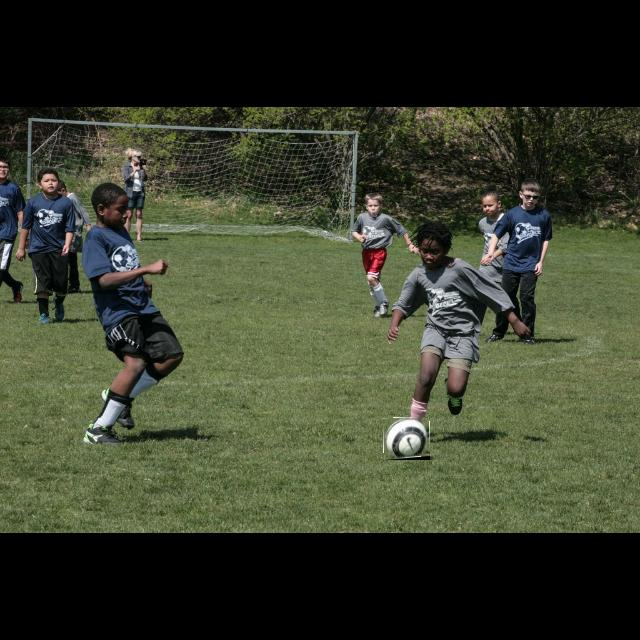Football: (384, 418, 430, 460)
